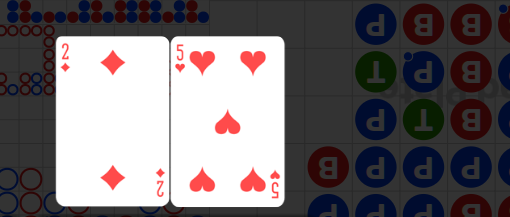2D: (60, 42, 72, 75)
5H: (269, 168, 281, 200)
